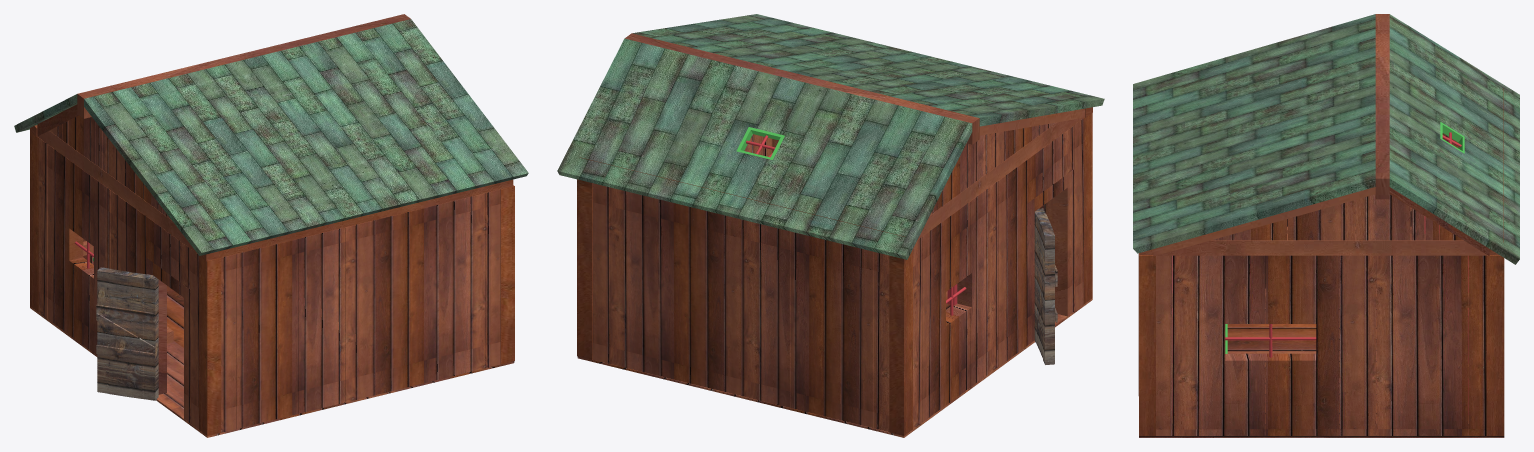
File: Galhinheiro_Fazenda.fbx
3 renders of one model, left to right at view 1: azimuth 30°, elevation 25°; view 2: azimuth 150°, elevation 25°; view 3: azimuth 270°, elevation 25°, orthographic. The views are drawn at different scales.
Visible parts, largest first — view 1: Teto.001, Parede.003, Parede, Porta, Pilar.003, Chao, Parede_Teto., Pilar.000, Suporte_Teto, Batente, Suporte_Teto.010, Suporte_Teto.011 (+3 smaller); view 2: Teto, Parede.001, Parede, Teto.001, Batente, Pilar.002, Parede_Teto., Porta, Suporte_Teto, Pilar.004, Suporte_Teto.011, Pilar.003 (+3 smaller); view 3: Parede.002, Teto.001, Teto, Parede_Teto..001, Suporte_Teto.012, Chao, Pilar.004, Pilar.000, Suporte_Teto, Suporte_Teto.006, Suporte_Teto.001, Janelinha.
Boxes of the visible parts, x1,y1,x2,y2 form: Teto.001: (84,19,528,255); Parede.003: (221,189,500,432); Parede: (38,138,198,429); Porta: (96,267,158,400); Pilar.003: (199,256,221,435); Chao: (30,286,514,437); Parede_Teto.: (49,115,171,219); Pilar.000: (500,185,514,364); Suporte_Teto: (77,14,410,118); Batente: (146,257,190,423); Suporte_Teto.010: (200,179,513,261); Suporte_Teto.011: (38,131,197,253); Teto: (557,38,972,259); Parede.001: (592,183,889,431); Parede: (913,119,1083,429); Teto.001: (632,14,1104,126); Batente: (1027,169,1074,345); Pilar.002: (889,249,912,435); Parede_Teto.: (930,122,1056,214); Porta: (1034,208,1057,364); Suporte_Teto: (625,33,979,144); Pilar.004: (577,179,592,359); Suporte_Teto.011: (917,117,1084,239); Pilar.003: (1083,113,1092,304); Parede.002: (1156,255,1486,435); Teto.001: (1133,14,1375,253); Teto: (1389,14,1519,264); Parede_Teto..001: (1212,194,1462,240); Suporte_Teto.012: (1157,233,1487,255); Chao: (1139,289,1504,437); Pilar.004: (1487,255,1504,436); Pilar.000: (1139,253,1155,436); Suporte_Teto: (1375,14,1389,199); Suporte_Teto.006: (1153,187,1375,256); Suporte_Teto.001: (1389,187,1489,255); Janelinha: (1225,324,1316,357).
Size of the model in its own units: 1390 by 955 by 1262.
